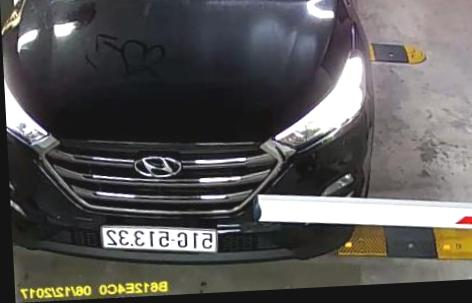License_Plate: (100, 217, 224, 263)
